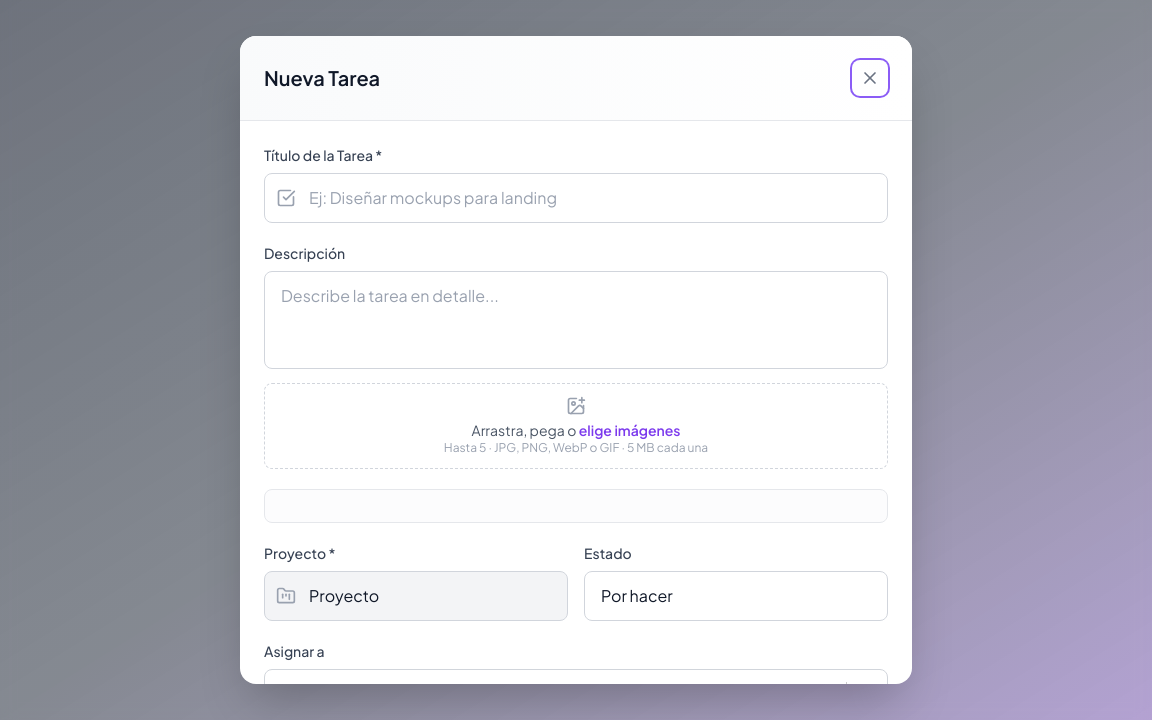
Test: TaskModal: cupo de imágenes desde un listado › pegar se ignora mientras se envía
Type "Nueva" into the field with placeholder "Ej: Diseñar mockups para landing" at (576, 198), box [264, 173, 888, 223]
(page scrolled)
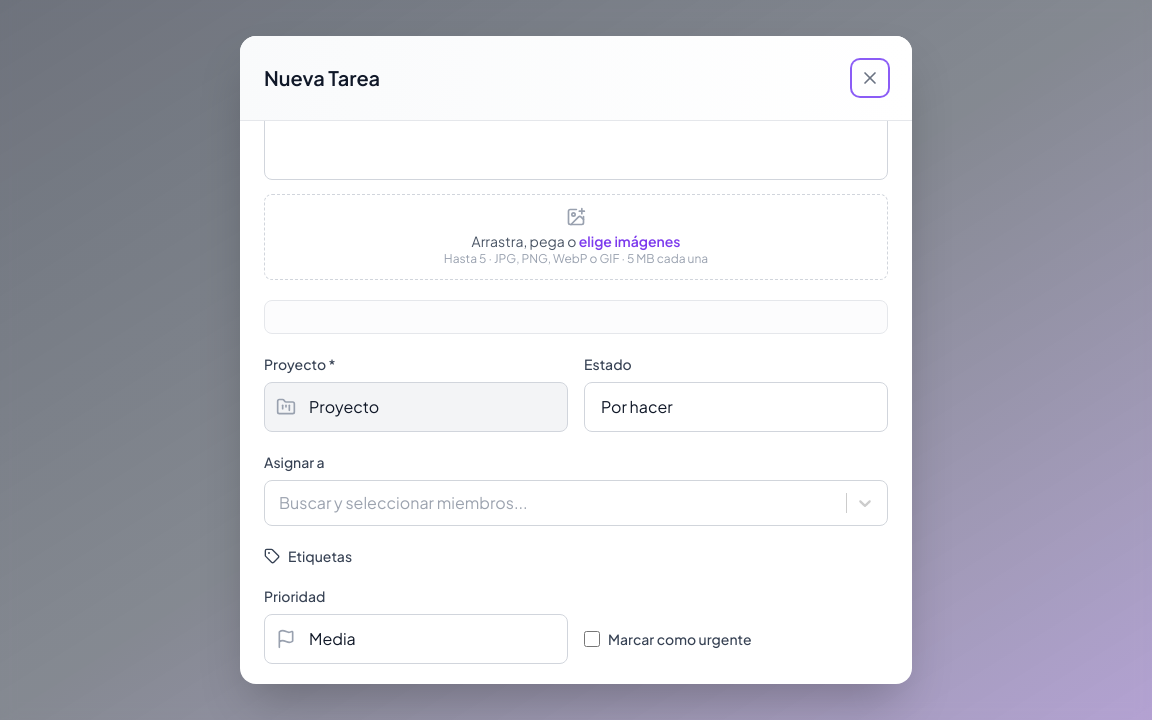
Submit the form with placeholder "Ej: Diseñar mockups para landing"
(page scrolled)
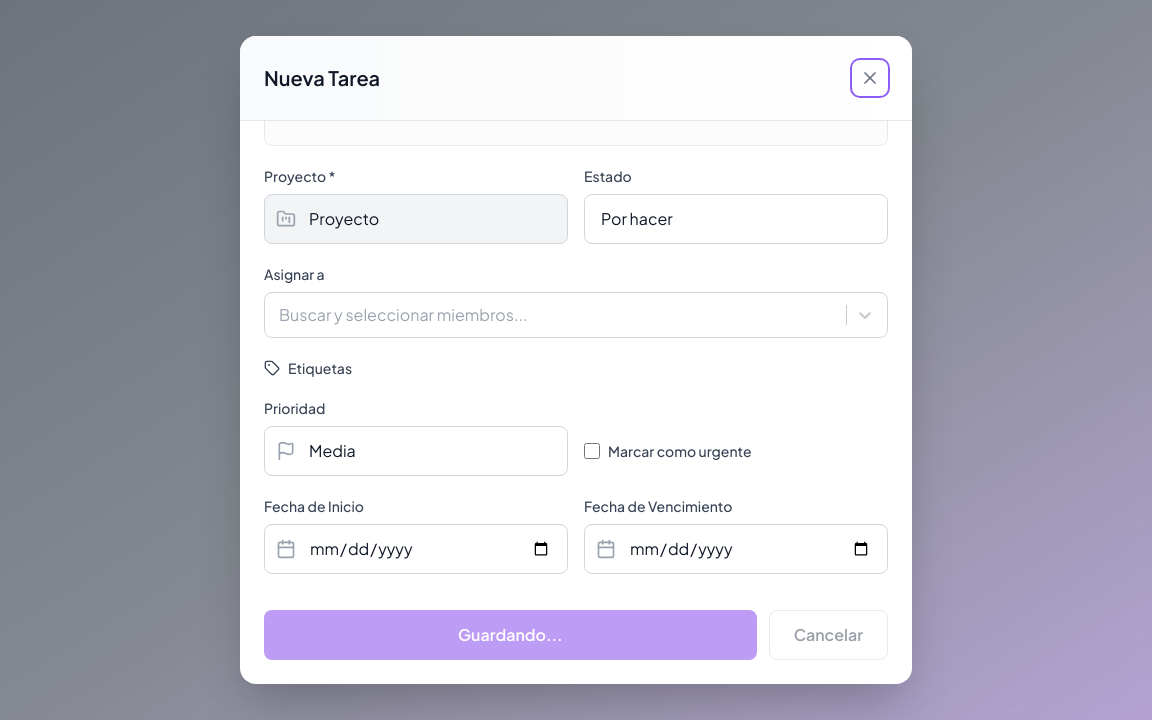
Result: the button "Guardando..." is shown at [264, 610, 757, 660]
